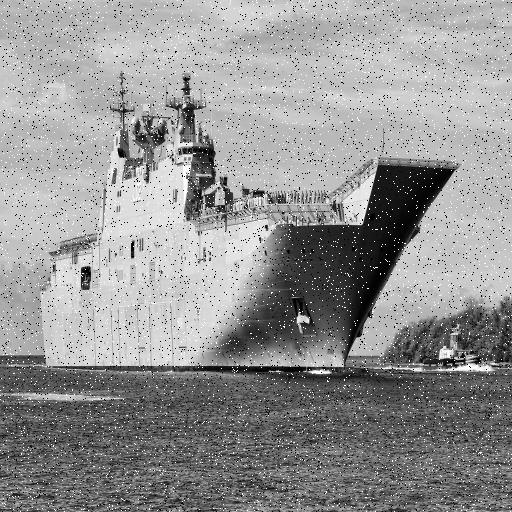Portanaves: (39, 70, 463, 383)
